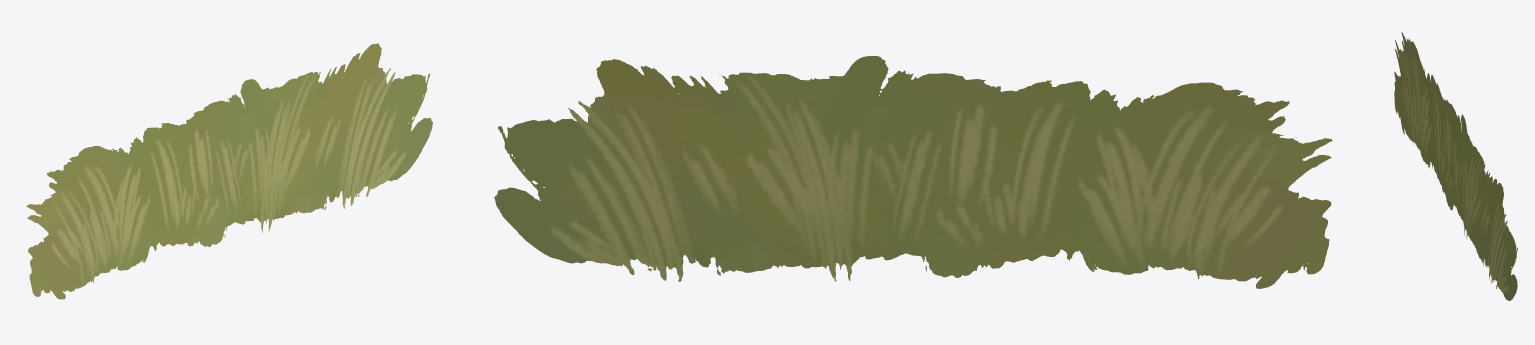
Rendered from grass8_002.fbx.
The picture shows the model from 3 angles, left to right: view 1: azimuth 30°, elevation 25°; view 2: azimuth 150°, elevation 25°; view 3: azimuth 270°, elevation 25°; orthographic projection. The views are drawn at different scales.
Visible parts, largest first — view 1: grass8.002; view 2: grass8.002; view 3: grass8.002.
Boxes of the visible parts, left/top/right/bottom form: grass8.002: left=26, top=43, right=432, bottom=299; grass8.002: left=494, top=56, right=1332, bottom=288; grass8.002: left=1394, top=32, right=1517, bottom=300.
Bounding box in the file's own units: 454 × 174 × 137.
